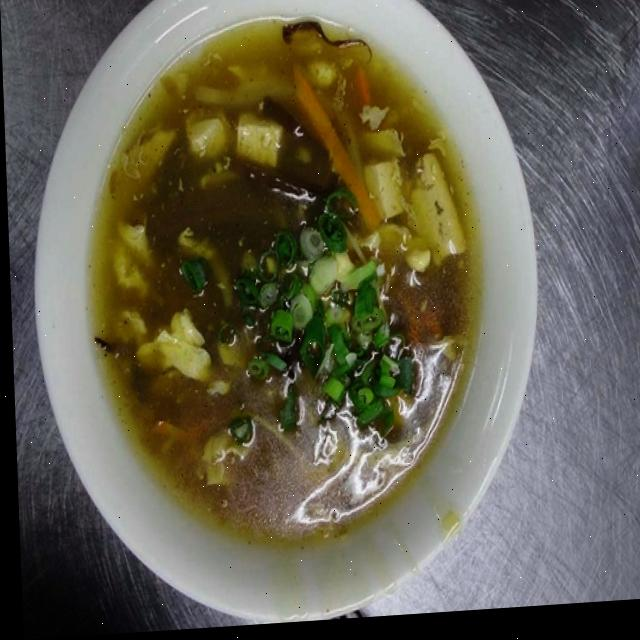面条主食: (69, 23, 498, 586)
